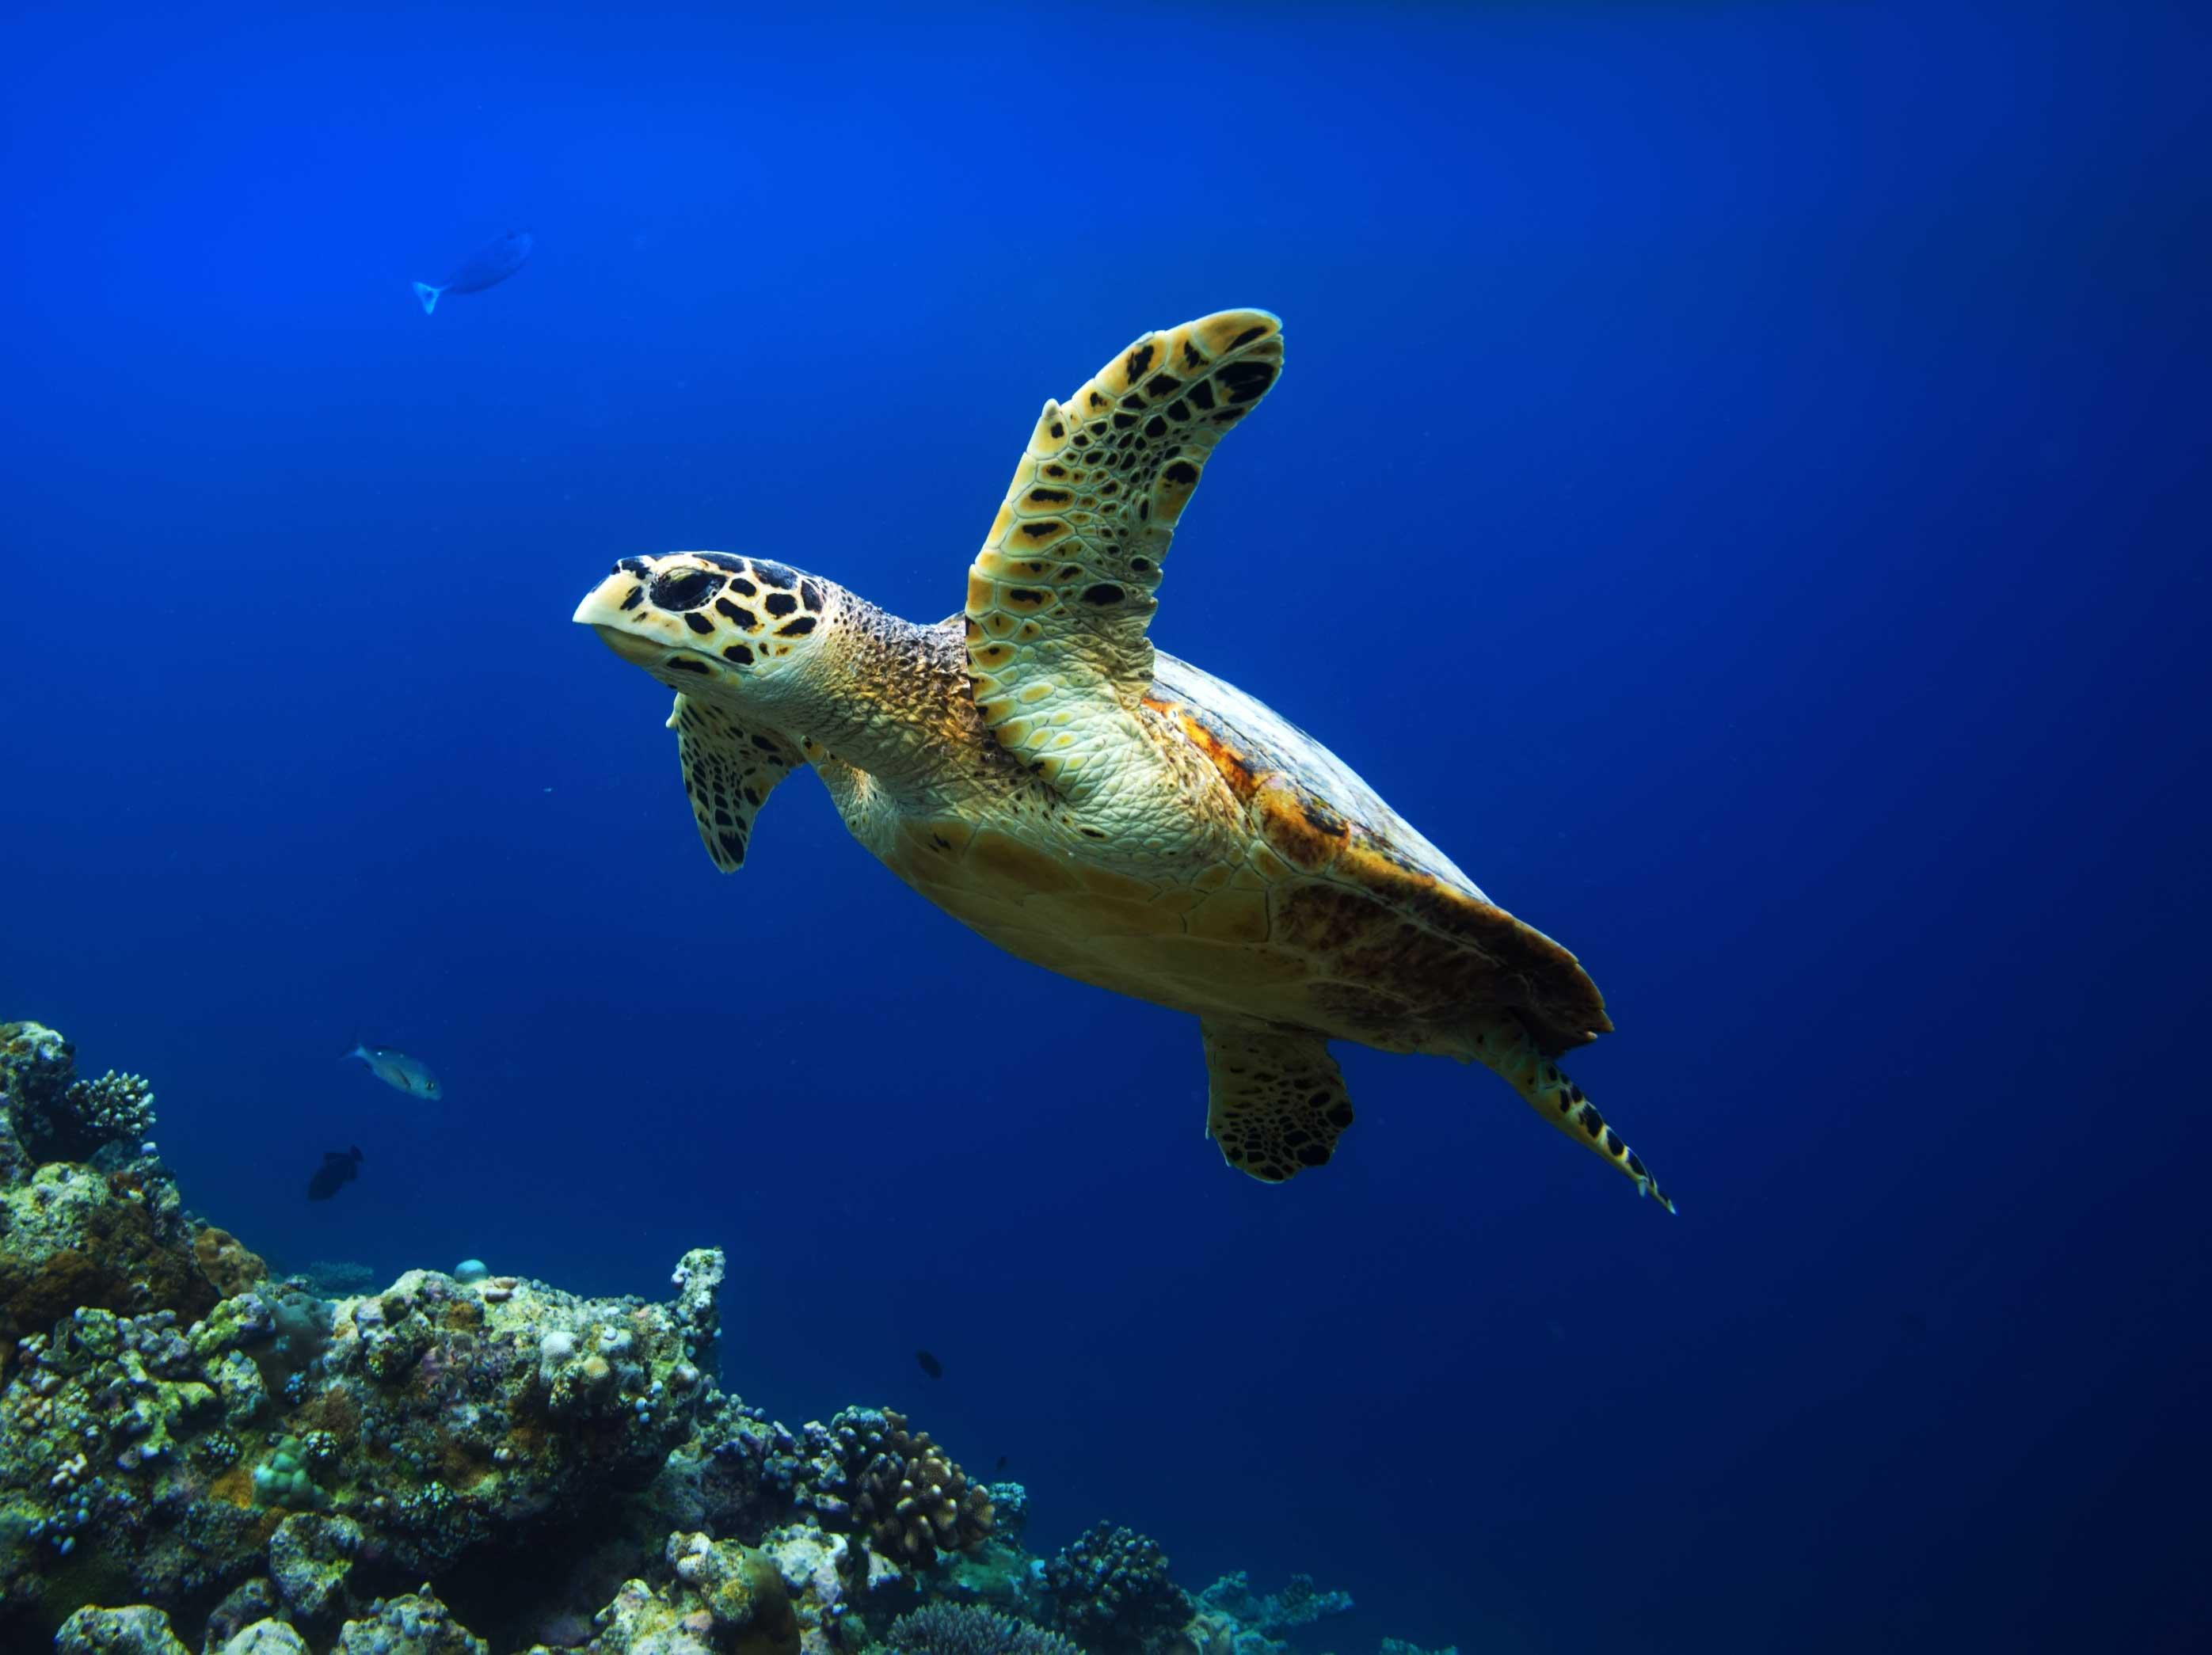turtle: (532, 516, 869, 741)
